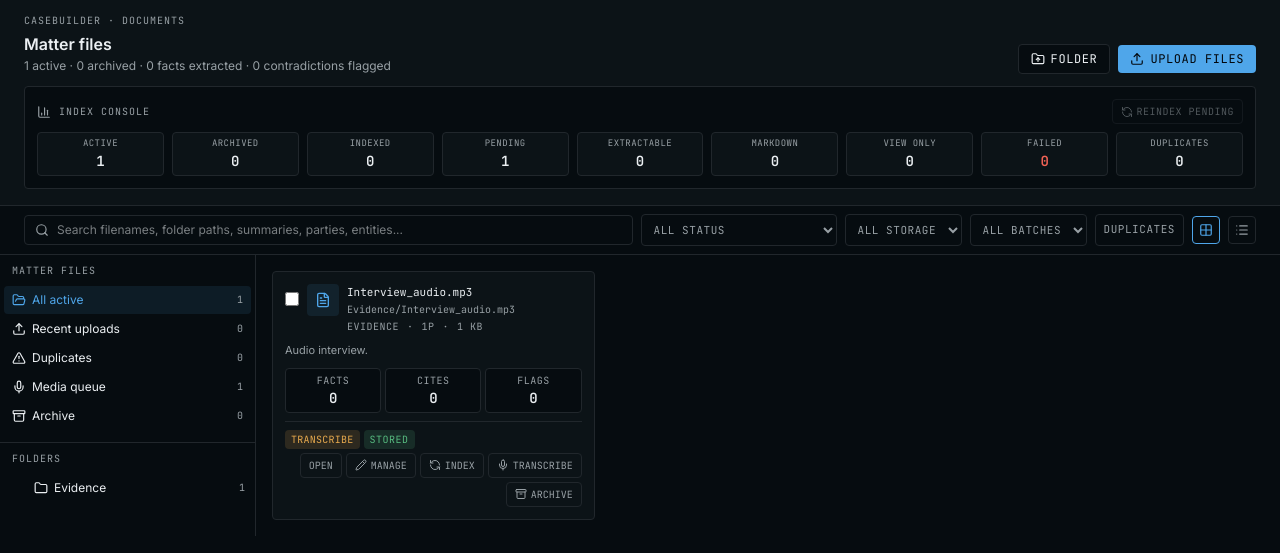
Test: DocumentLibrary media queue › keeps media transcription retry disabled while Markdown-only processing is enabled
Click the button "Media queue 1": (128,386) [4,372,251,400]
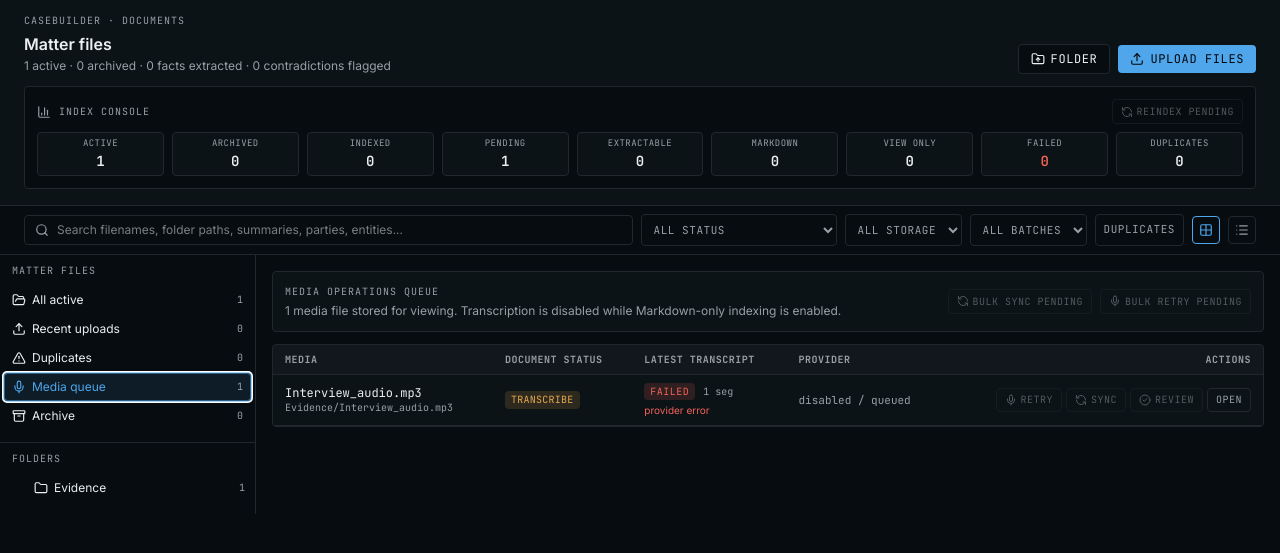
Expected: the button "retry" is disabled, [996,388,1062,412]
